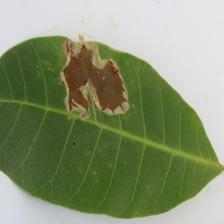leaf miner: (58, 35, 134, 127)
